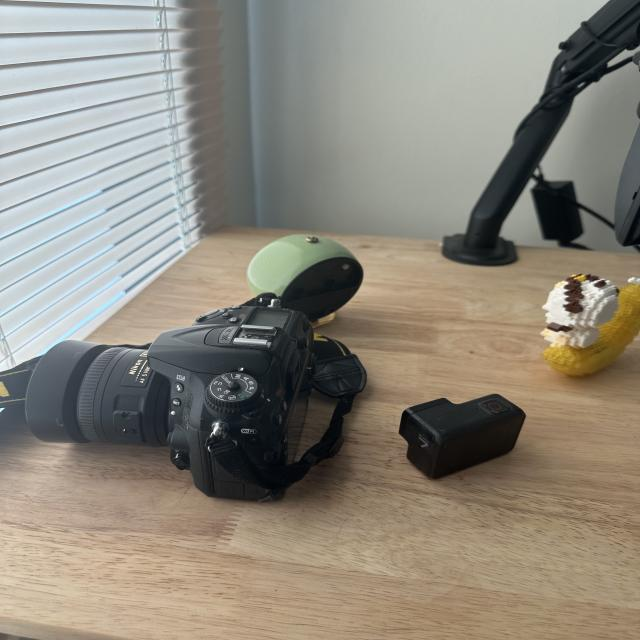actioncam: (371, 374, 542, 480)
camera: (0, 303, 379, 506)
clock: (232, 220, 387, 345)
toy: (493, 253, 640, 385)
